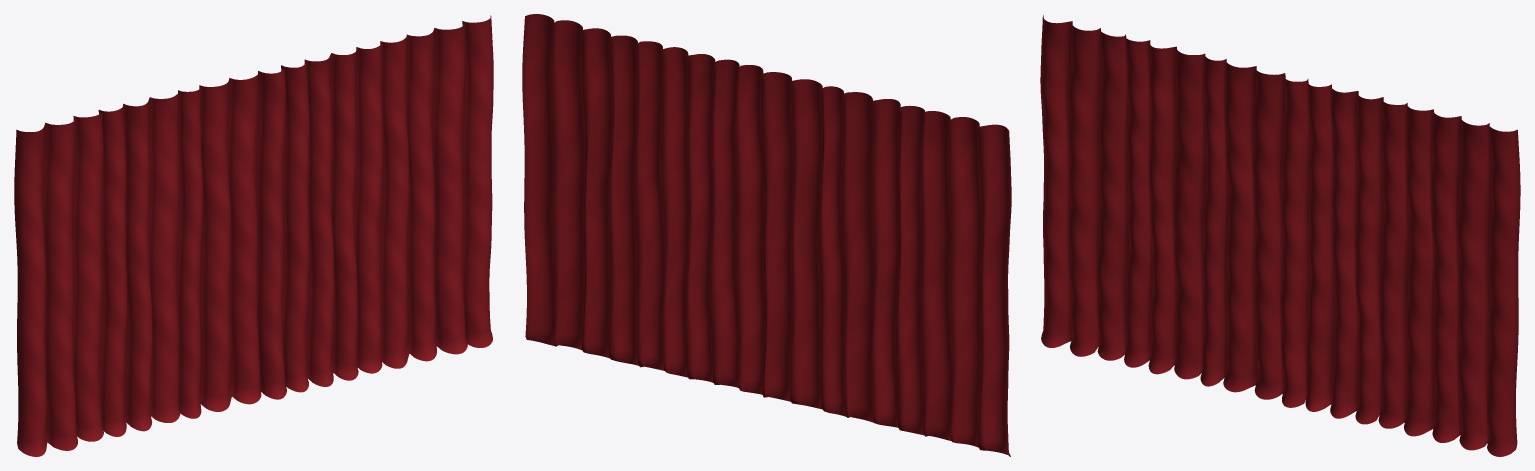
The model's file is perde.glb.
The picture shows the model from 3 angles, left to right: view 1: azimuth 30°, elevation 25°; view 2: azimuth 150°, elevation 25°; view 3: azimuth 330°, elevation 25°; orthographic projection.
Visible parts, largest first — view 1: Perde; view 2: Perde; view 3: Perde.
Part boxes in pixels (box(x1,y1,x2,y2)): Perde: box(14, 15, 493, 456); Perde: box(522, 14, 1011, 456); Perde: box(1040, 15, 1520, 456).
Bounding box in the file's own units: 4.04 × 2.61 × 0.1488.
